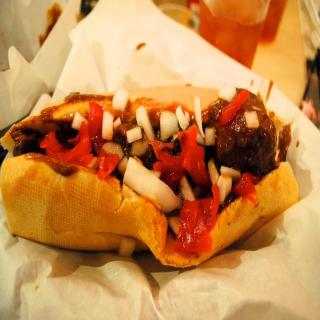Hamburger: (1, 84, 307, 269)
